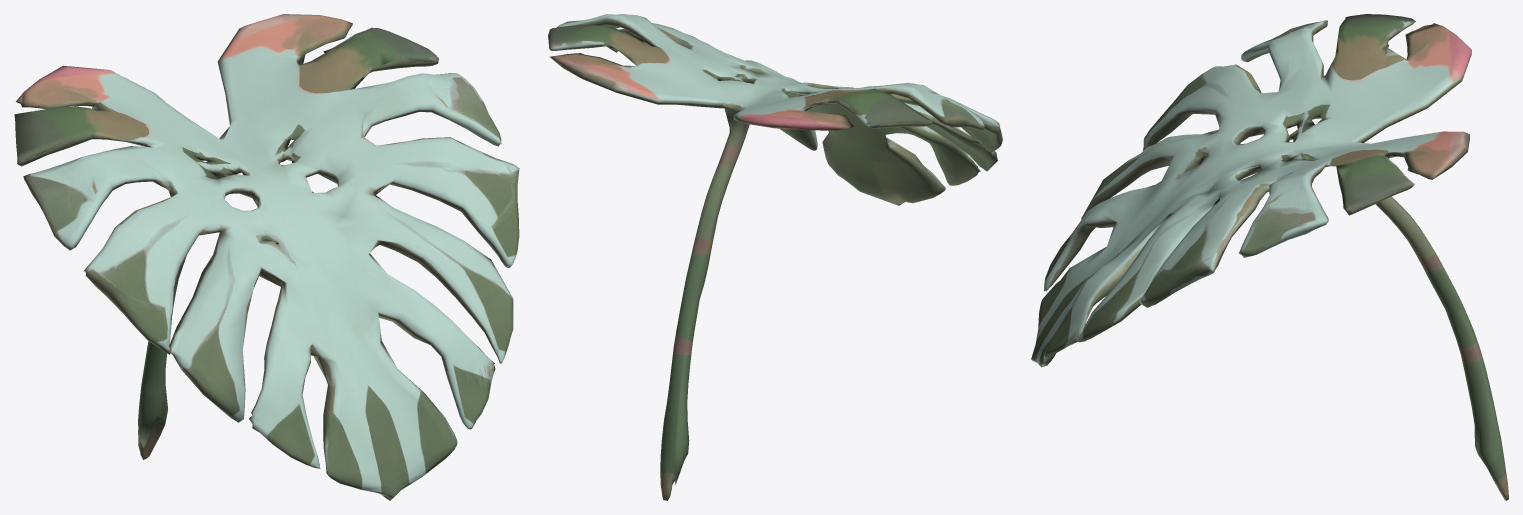
The model's file is mon_star_greenwhite_v2.glb.
3 renders of one model, left to right at view 1: azimuth 30°, elevation 25°; view 2: azimuth 150°, elevation 25°; view 3: azimuth 270°, elevation 25°, orthographic. The views are drawn at different scales.
Parts seen in each view (by area): view 1: world; view 2: world; view 3: world.
Boxes of the visible parts, left/top/right/bottom form: world: left=14, top=14, right=519, bottom=500; world: left=548, top=14, right=1002, bottom=500; world: left=1031, top=14, right=1508, bottom=500.
Bounding box in the file's own units: 2 × 1.88 × 2.
1 material, 1 textured.
